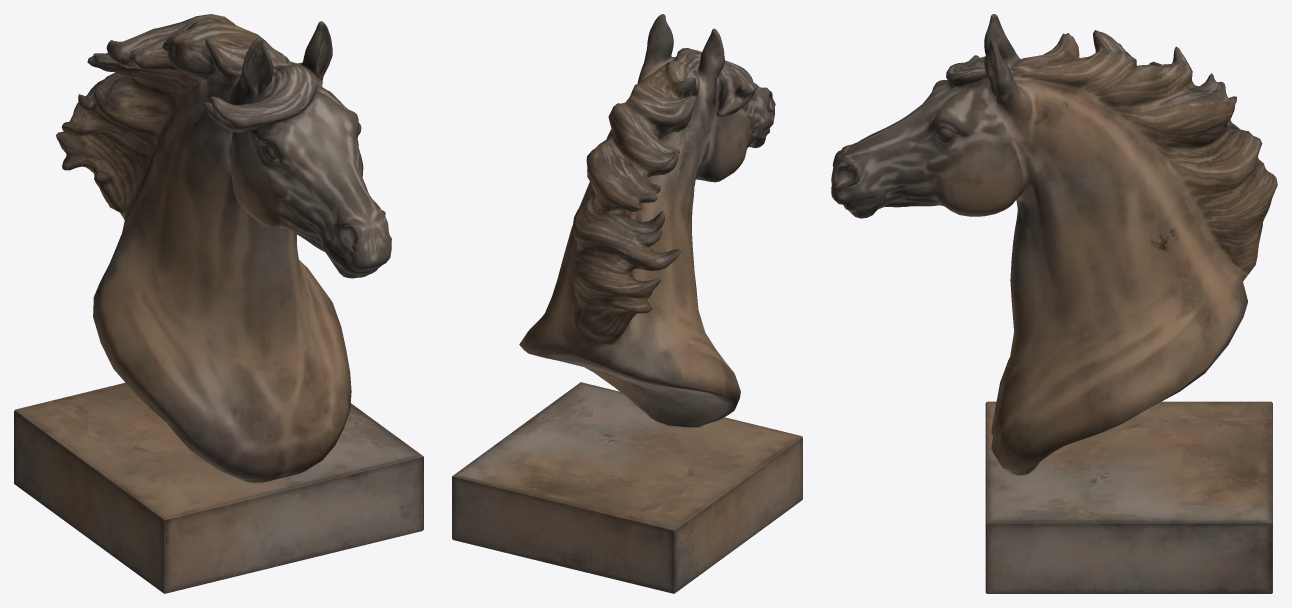
File: horse_head.glb
3 renders of one model, left to right at view 1: azimuth 30°, elevation 25°; view 2: azimuth 150°, elevation 25°; view 3: azimuth 270°, elevation 25°, orthographic. The views are drawn at different scales.
Visible parts, largest first — view 1: horse_head; view 2: horse_head; view 3: horse_head.
Part boxes in pixels (box(x1,y1,x2,y2)): horse_head: box(14, 14, 423, 593); horse_head: box(452, 14, 802, 593); horse_head: box(831, 14, 1277, 593).
Bounding box in the file's own units: 0.2149 × 0.4187 × 0.3341.
1 material, 1 textured.
